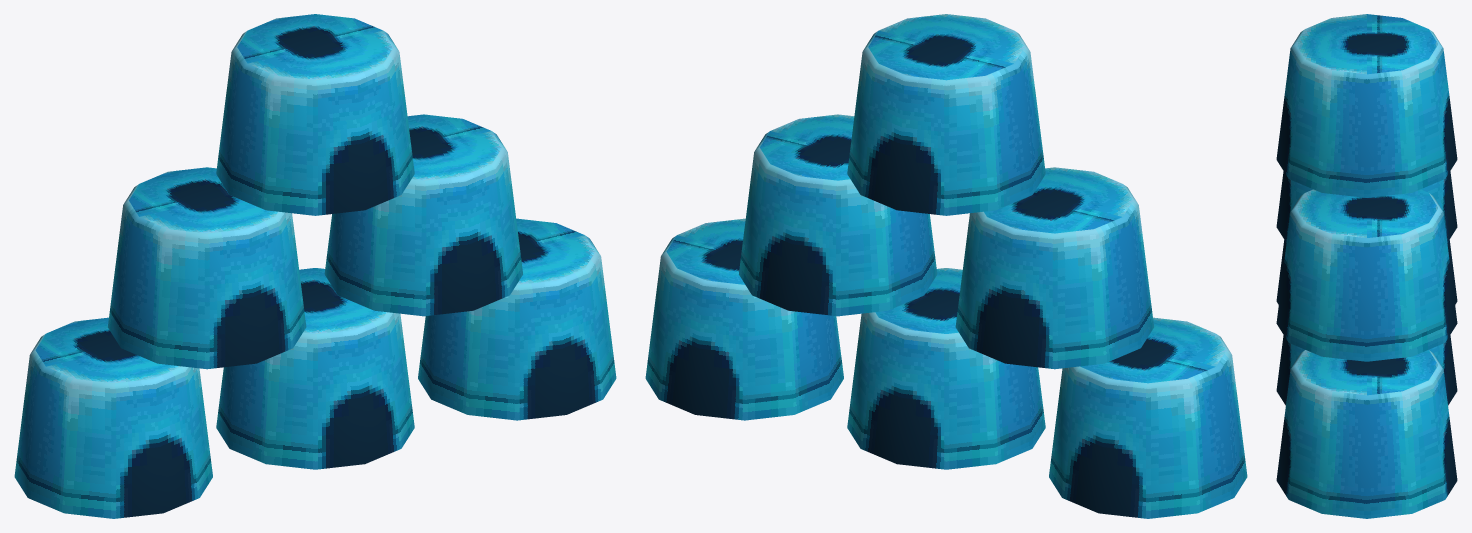
File: int_bth_bathchair.dae
The picture shows the model from 3 angles, left to right: view 1: azimuth 30°, elevation 25°; view 2: azimuth 150°, elevation 25°; view 3: azimuth 270°, elevation 25°; orthographic projection. The views are drawn at different scales.
Parts seen in each view (by area): view 1: bs_j_0_0; view 2: bs_j_0_0; view 3: bs_j_0_0.
Part boxes in pixels (<box>): bs_j_0_0: <box>14,14,616,518</box>; bs_j_0_0: <box>645,14,1247,518</box>; bs_j_0_0: <box>1276,14,1457,518</box>.
Size of the model in its own units: 59.34 by 37.52 by 17.74.
Materials: 1 (1 with a texture image).
